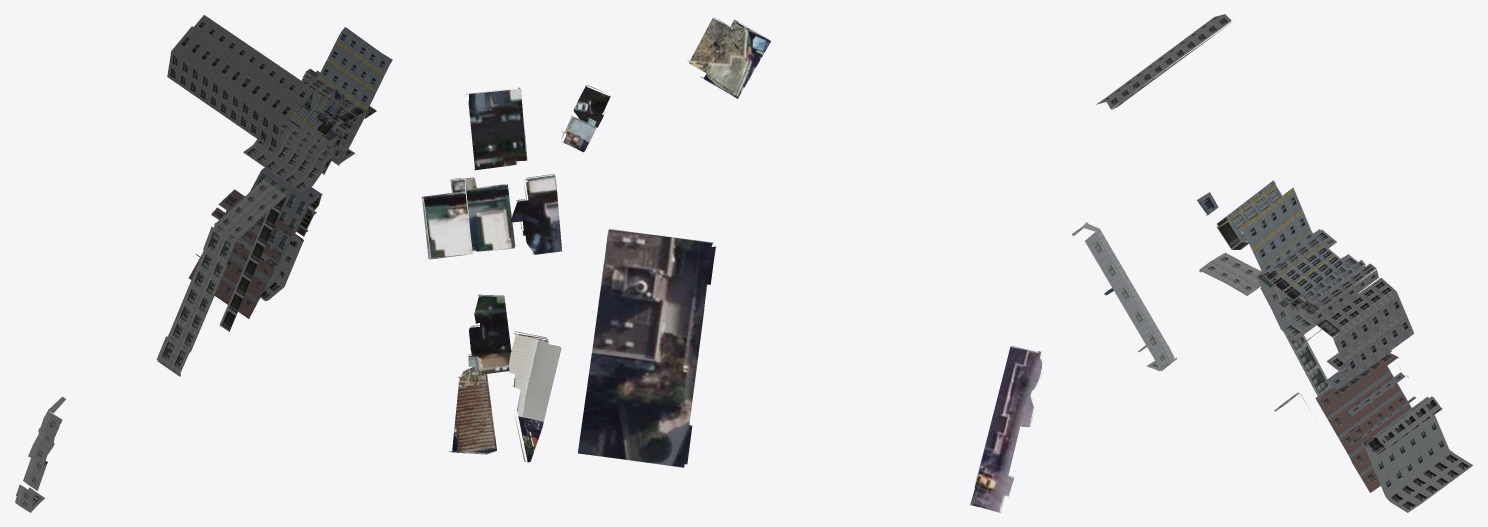
Rendered from tile_LOD4_r7_c10.glb.
3 views of the same model, side by side, from view 1: azimuth 30°, elevation 25°; view 2: azimuth 150°, elevation 25°; view 3: azimuth 270°, elevation 25° (orthographic). The views are drawn at different scales.
Bounding box in the file's own units: 130 × 116 × 91.5.
57 materials, 57 textured.
